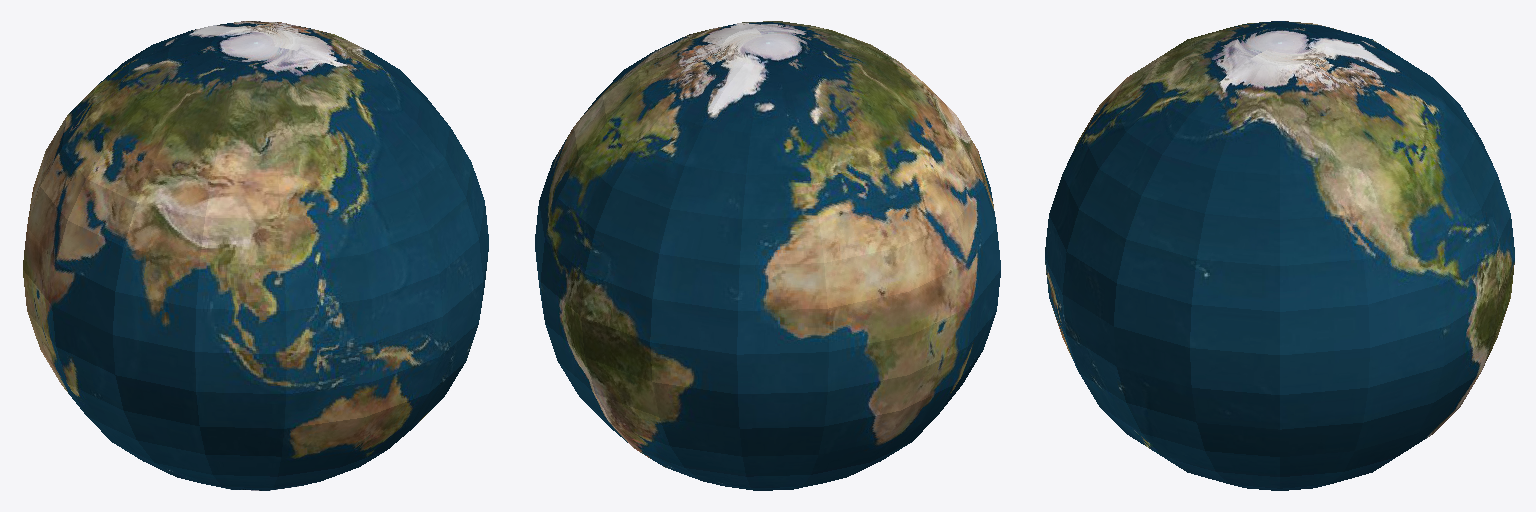
3 views of the same model, side by side, from view 1: azimuth 30°, elevation 25°; view 2: azimuth 150°, elevation 25°; view 3: azimuth 270°, elevation 25° (orthographic).
Parts seen in each view (by area): view 1: sphere6; view 2: sphere6; view 3: sphere6.
Part boxes in pixels (x1,y1,x2,y2): sphere6: (23,21,488,490); sphere6: (535,21,1000,490); sphere6: (1045,21,1514,490).
Bounding box in the file's own units: 2 × 2 × 2.
Materials: 1 (1 with a texture image).